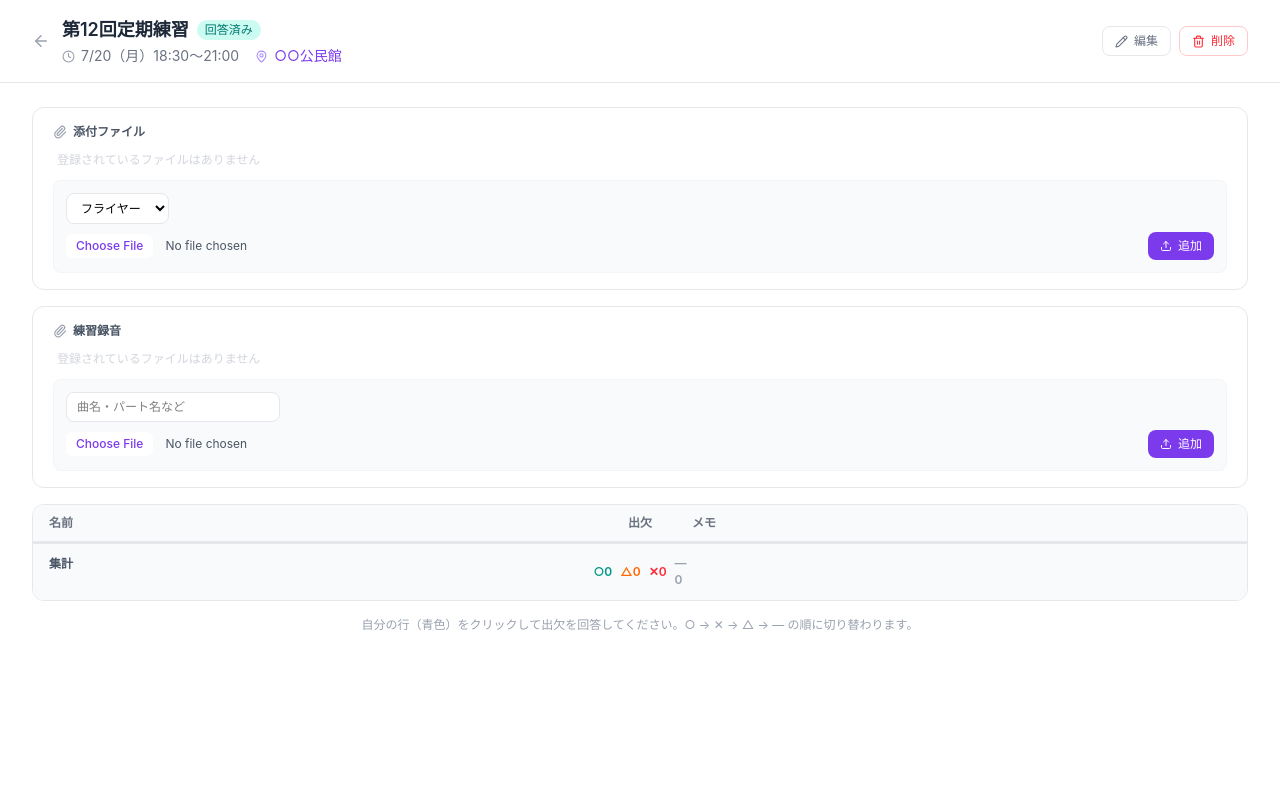
ScheduleDetailPage（削除フロー） › 「削除」→確認モーダル表示→「キャンセル」で閉じる
The width and height of the screenshot is (1280, 800).
Click the button "削除" at (1214, 41), box [1179,26,1248,56]
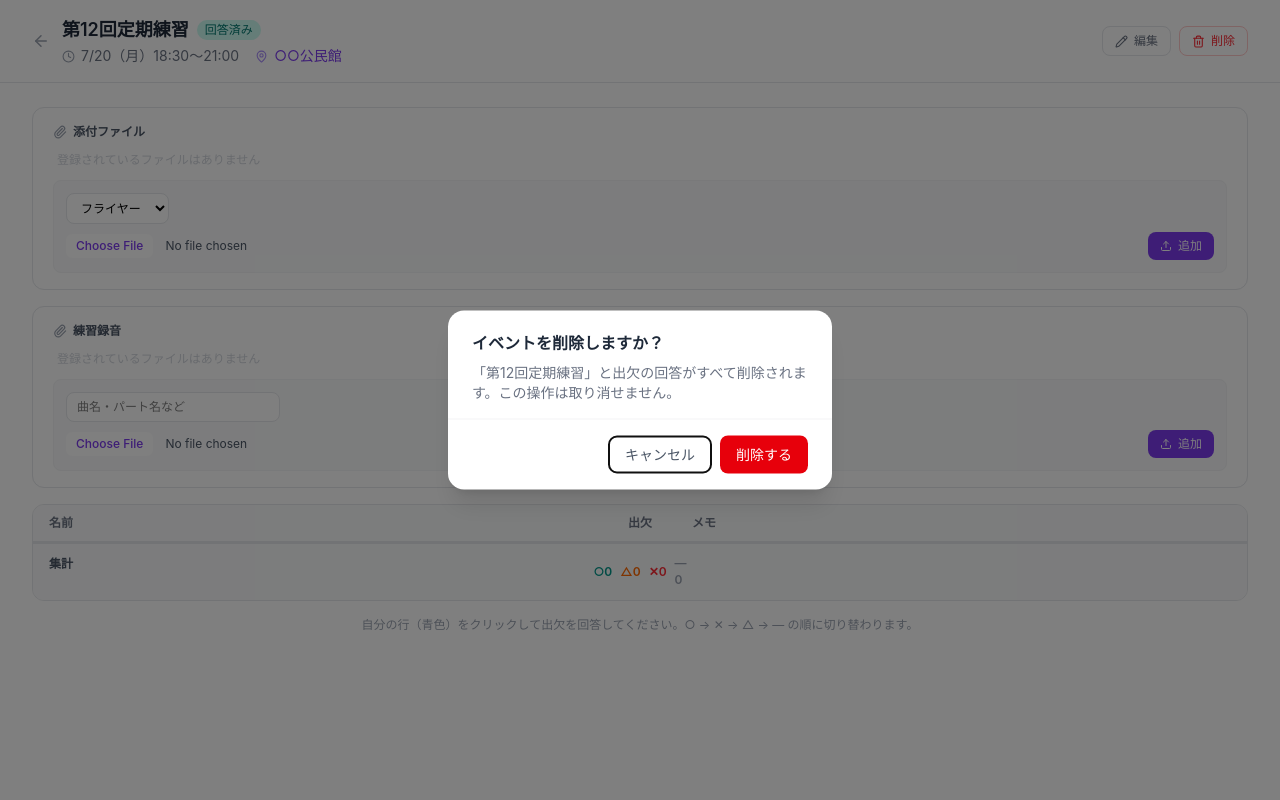
Check: the dialog "イベントを削除しますか？" shows "「第12回定期練習」と出欠の回答がすべて削除されます", box [472,364,807,400]
Click the button "キャンセル" at (660, 454), box [608,436,712,474]
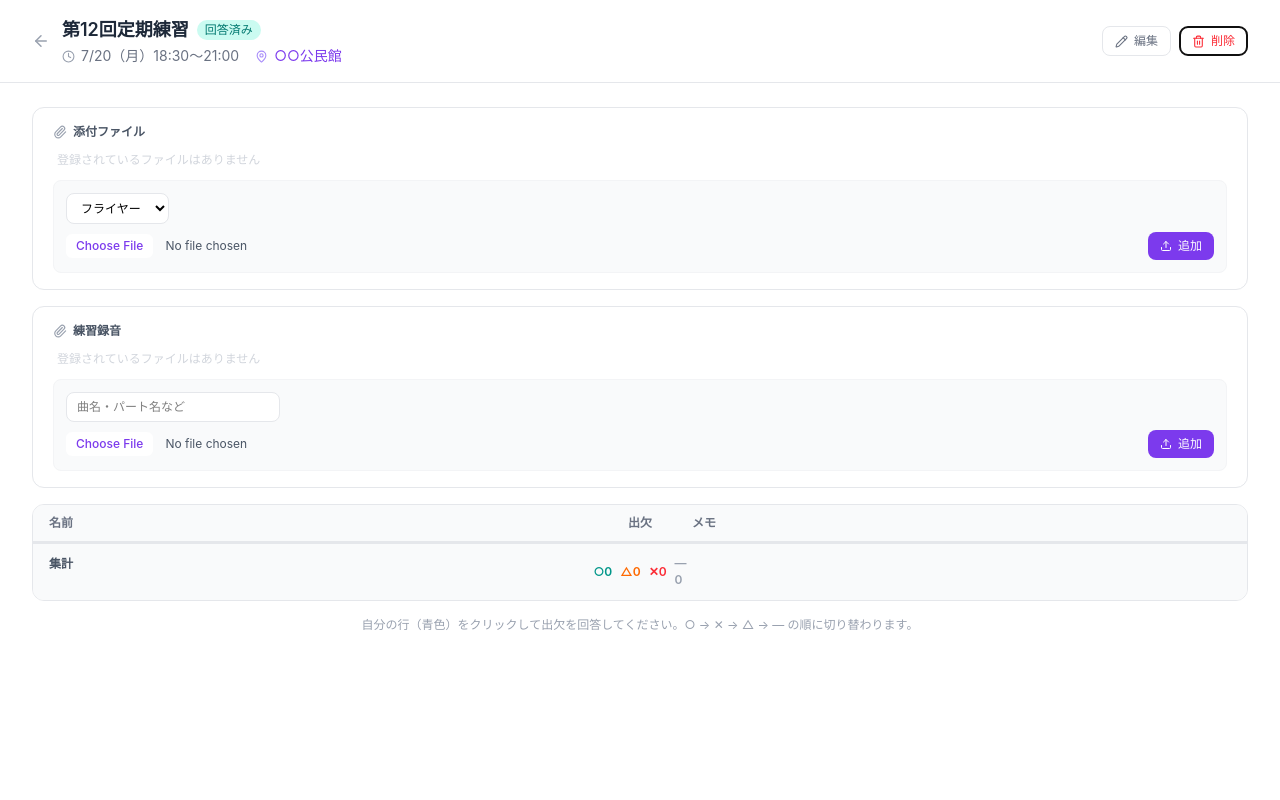
Check: the dialog is gone
